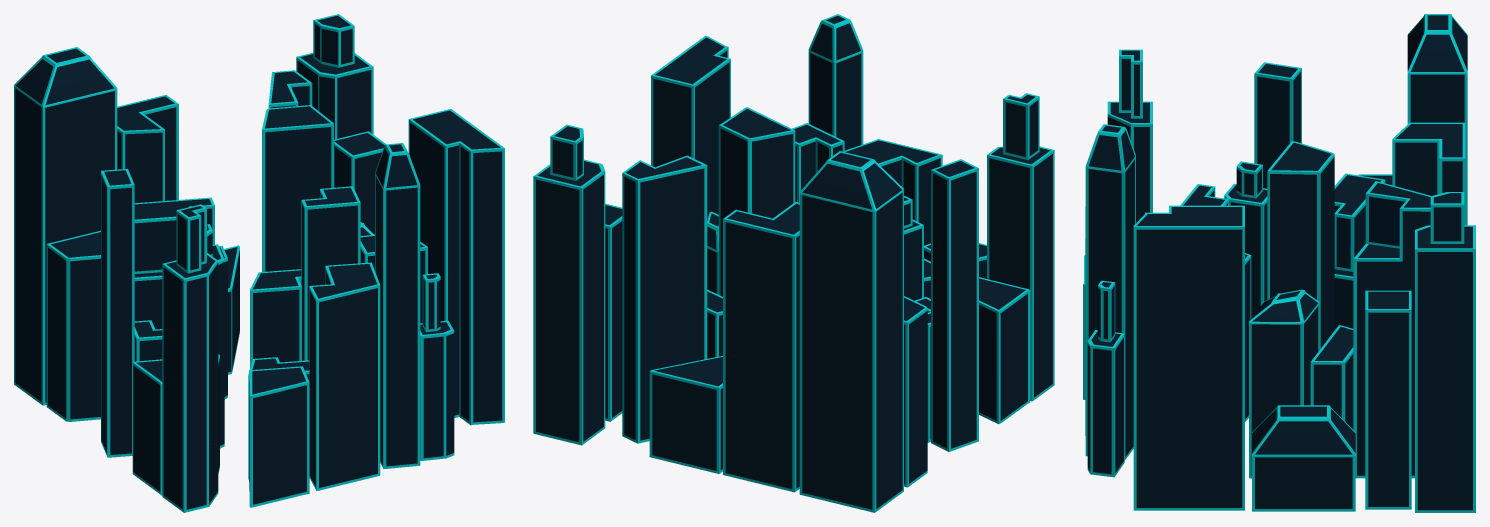
File: StageB0_Group.fbx
3 views of the same model, side by side, from view 1: azimuth 30°, elevation 25°; view 2: azimuth 150°, elevation 25°; view 3: azimuth 270°, elevation 25° (orthographic). The views are drawn at different scales.
Visible parts, largest first — view 1: BuildingB0_001, BuildingB0_026, BuildingB0_010, BuildingB0_020, BuildingB0_021, BuildingB0_004, BuildingB0_006, BuildingB0_013, BuildingB0_019, BuildingB0_023, BuildingB0_002, BuildingB0_022 (+11 smaller); view 2: BuildingB0_001, BuildingB0_023, BuildingB0_002, BuildingB0_011, BuildingB0_010, BuildingB0_006, BuildingB0_026, BuildingB0_013, BuildingB0_003, BuildingB0_009, BuildingB0_021, BuildingB0_004 (+7 smaller); view 3: BuildingB0_026, BuildingB0_023, BuildingB0_021, BuildingB0_013, BuildingB0_025, BuildingB0_024, BuildingB0_011, BuildingB0_014, BuildingB0_001, BuildingB0_022, BuildingB0_002, BuildingB0_006 (+6 smaller).
Part boxes in pixels (<box>): BuildingB0_001: <box>14,47,117,405</box>; BuildingB0_026: <box>408,109,504,425</box>; BuildingB0_010: <box>162,204,218,512</box>; BuildingB0_020: <box>309,262,380,490</box>; BuildingB0_021: <box>375,143,420,468</box>; BuildingB0_004: <box>46,230,100,421</box>; BuildingB0_006: <box>101,168,134,457</box>; BuildingB0_013: <box>262,105,333,271</box>; BuildingB0_019: <box>249,366,309,507</box>; BuildingB0_023: <box>296,14,373,139</box>; BuildingB0_002: <box>117,95,178,203</box>; BuildingB0_022: <box>420,273,454,460</box>; BuildingB0_001: <box>799,151,903,512</box>; BuildingB0_023: <box>533,124,605,445</box>; BuildingB0_002: <box>723,202,799,492</box>; BuildingB0_011: <box>622,155,707,443</box>; BuildingB0_010: <box>987,93,1054,401</box>; BuildingB0_006: <box>931,159,978,451</box>; BuildingB0_026: <box>651,35,730,218</box>; BuildingB0_013: <box>718,107,795,296</box>; BuildingB0_003: <box>649,356,722,473</box>; BuildingB0_009: <box>979,277,1030,424</box>; BuildingB0_021: <box>808,14,863,150</box>; BuildingB0_004: <box>904,296,927,487</box>; BuildingB0_026: <box>1133,205,1244,510</box>; BuildingB0_023: <box>1415,192,1475,512</box>; BuildingB0_021: <box>1085,124,1135,460</box>; BuildingB0_013: <box>1267,141,1334,349</box>; BuildingB0_025: <box>1252,405,1355,511</box>; BuildingB0_024: <box>1365,290,1411,509</box>; BuildingB0_011: <box>1353,181,1430,478</box>; BuildingB0_014: <box>1249,289,1319,478</box>; BuildingB0_001: <box>1407,14,1467,225</box>; BuildingB0_022: <box>1087,280,1124,477</box>; BuildingB0_002: <box>1392,122,1465,225</box>; BuildingB0_006: <box>1254,62,1301,188</box>.
Bounding box in the file's own units: 3367 × 3140 × 3271.
1 material, 1 textured.
